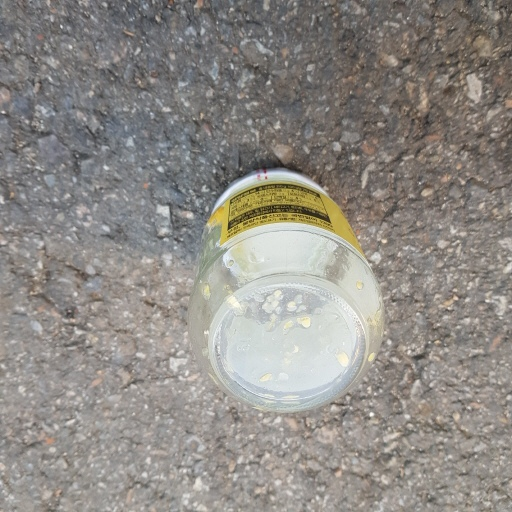Glass_5: (188, 166, 384, 416)
